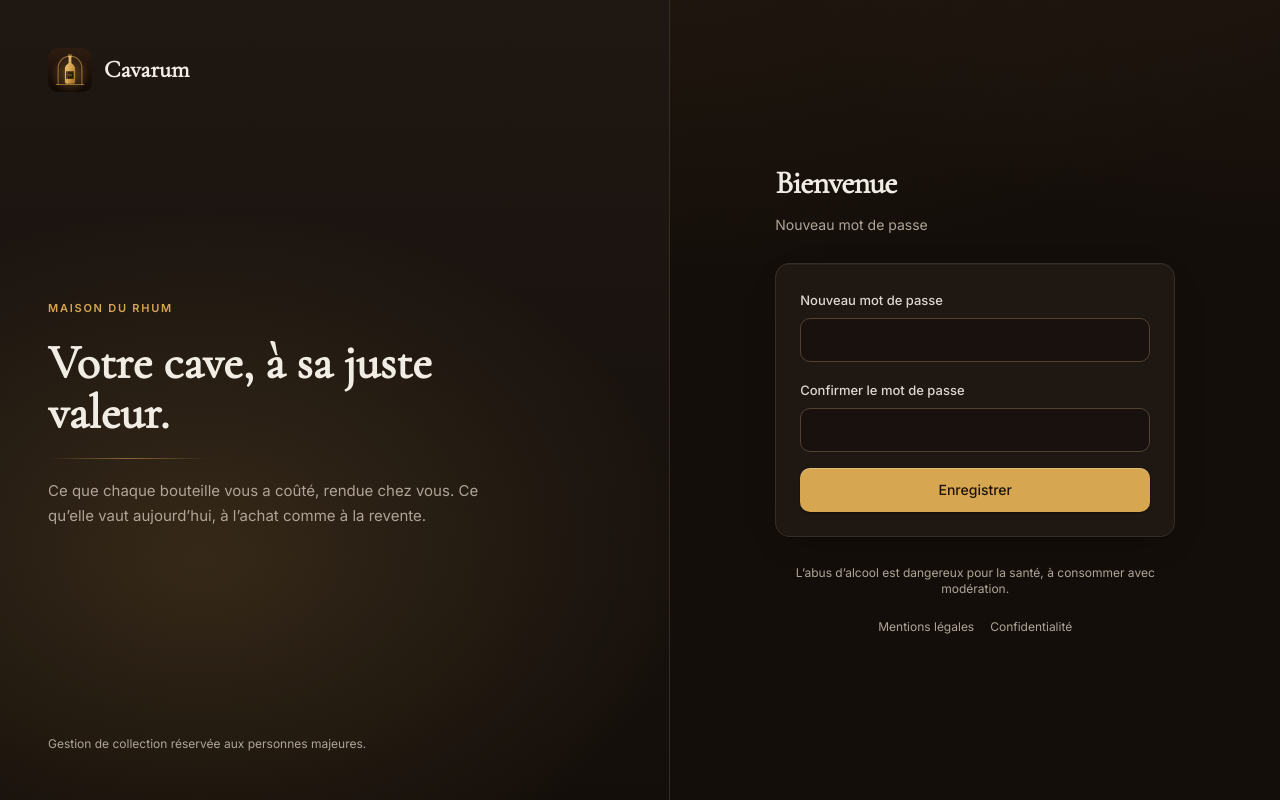
it: ResetPasswordPage › refuse deux mots de passe différents
Step 1. Type "rhum-agricole-1" into the password field labelled "Nouveau mot de passe" → (975, 340), box [800, 318, 1150, 362]
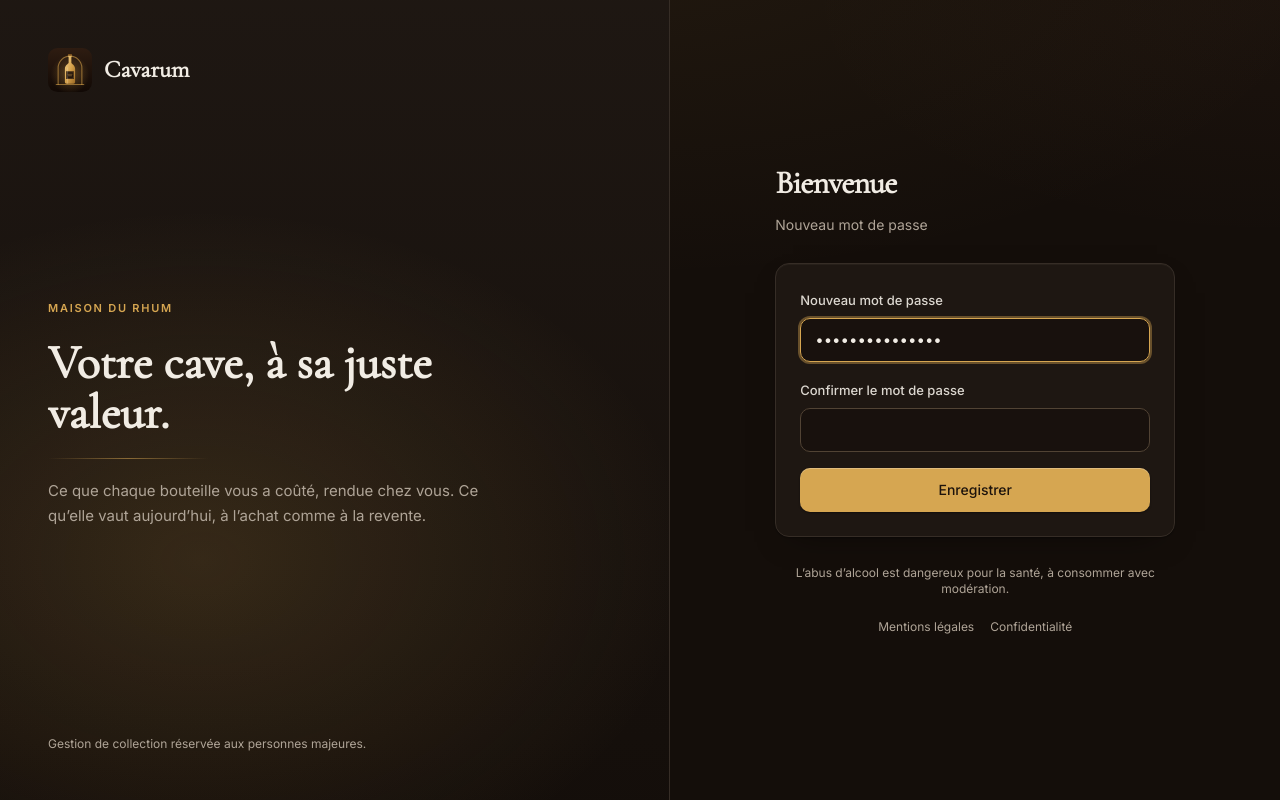
Step 2. Type "rhum-agricole-2" into the password field labelled "Confirmer le mot de passe" → (975, 430), box [800, 408, 1150, 452]
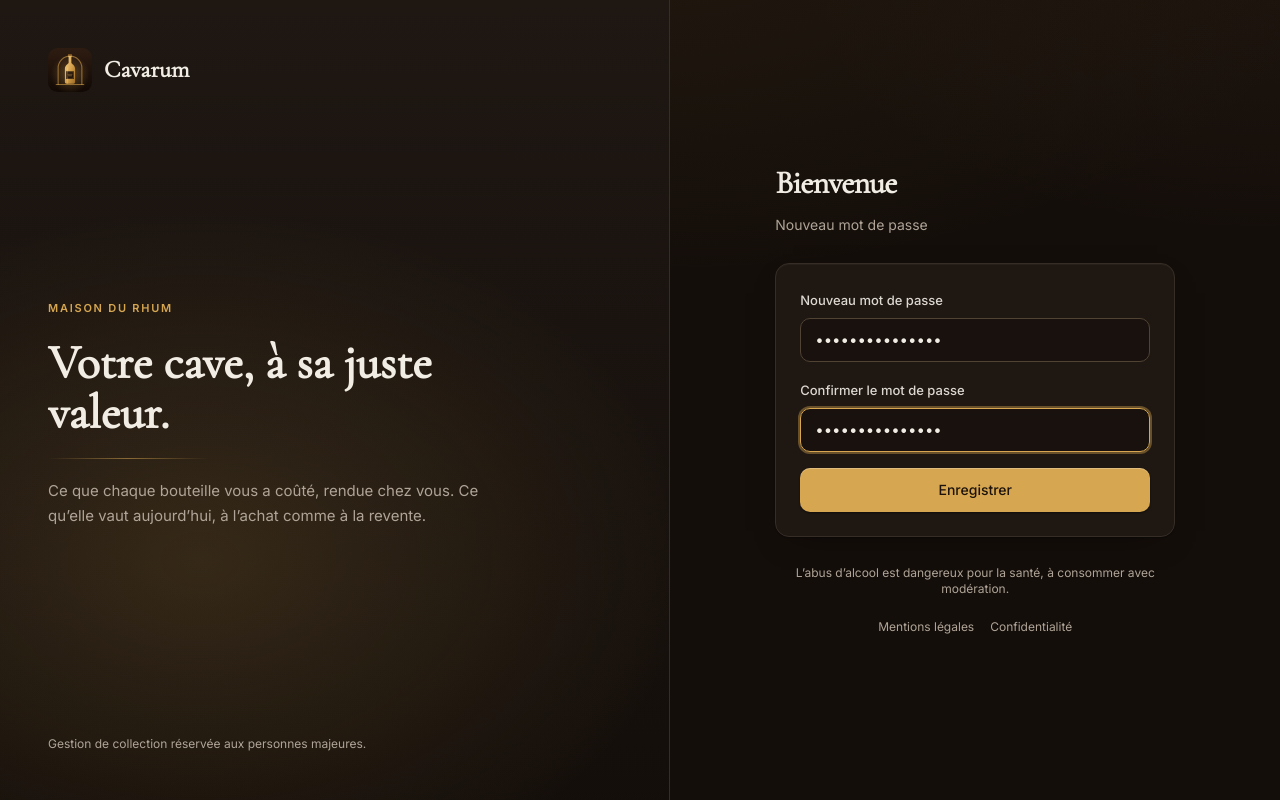
Step 3. Click the button "Enregistrer" → click(975, 490), box [800, 468, 1150, 512]
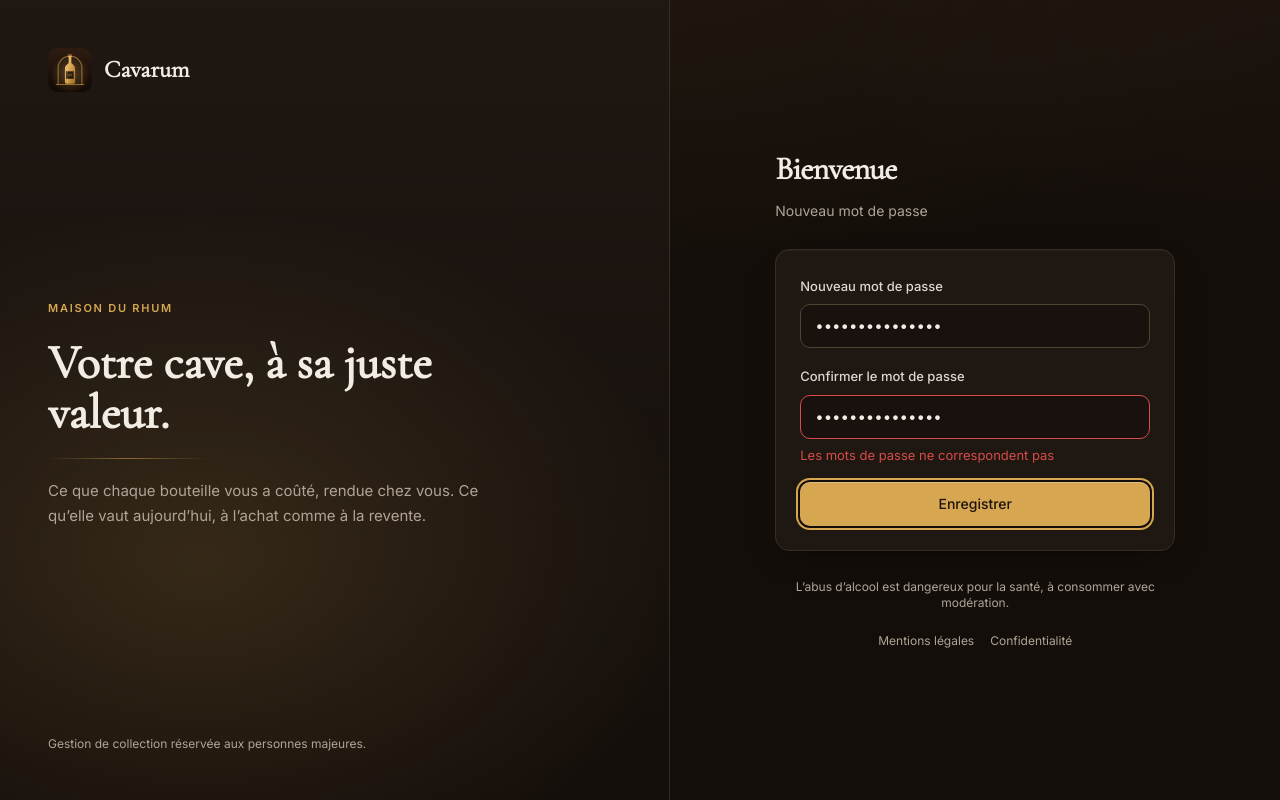
Now the text "Les mots de passe ne correspondent pas" is shown, box [800, 447, 1054, 463]
